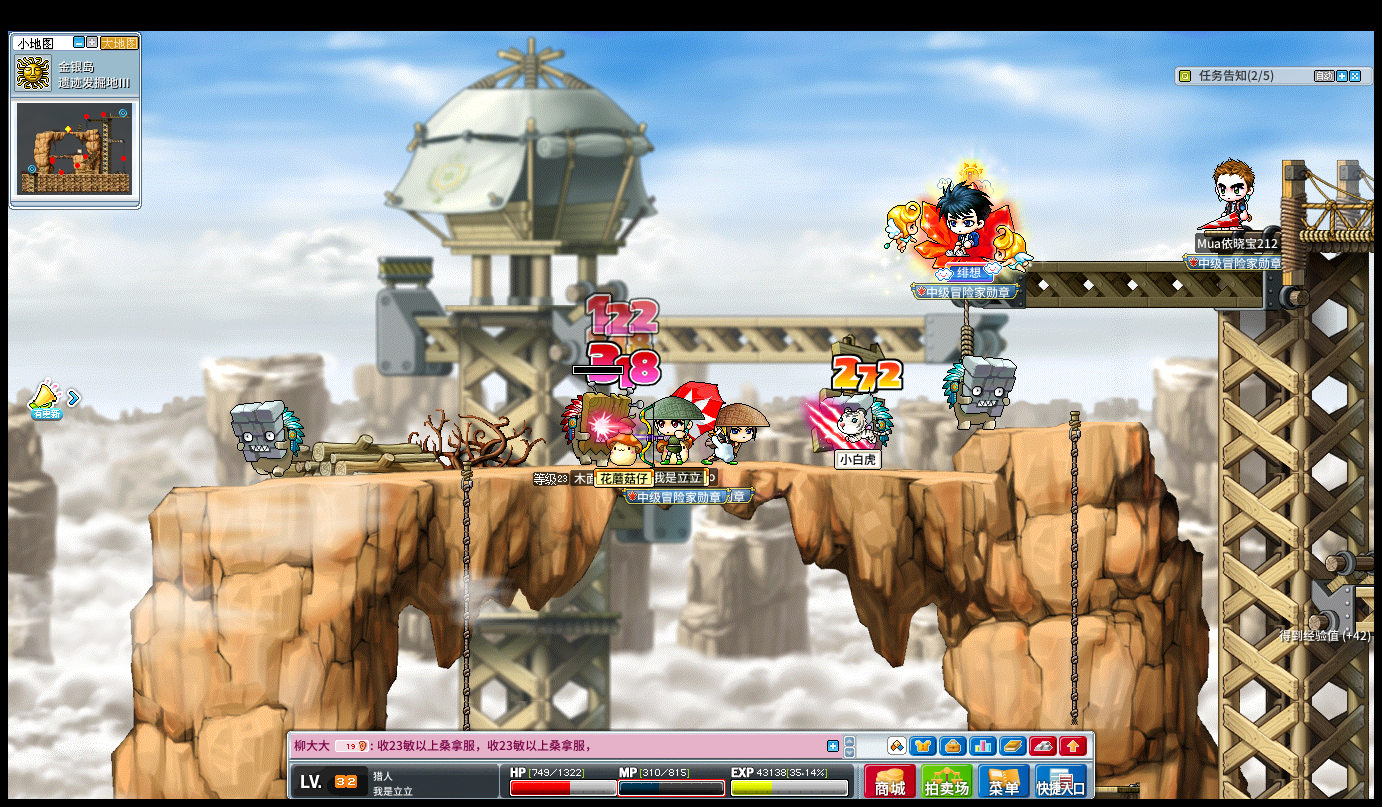floor: (154, 455, 1024, 480), (979, 416, 1141, 432), (981, 420, 1144, 434)
monster: (558, 384, 637, 464), (817, 390, 895, 469), (229, 400, 304, 482), (942, 353, 1017, 432)
rope: (458, 456, 474, 799), (1066, 407, 1081, 738), (1067, 409, 1080, 671), (459, 459, 473, 680), (1067, 618, 1080, 722)
